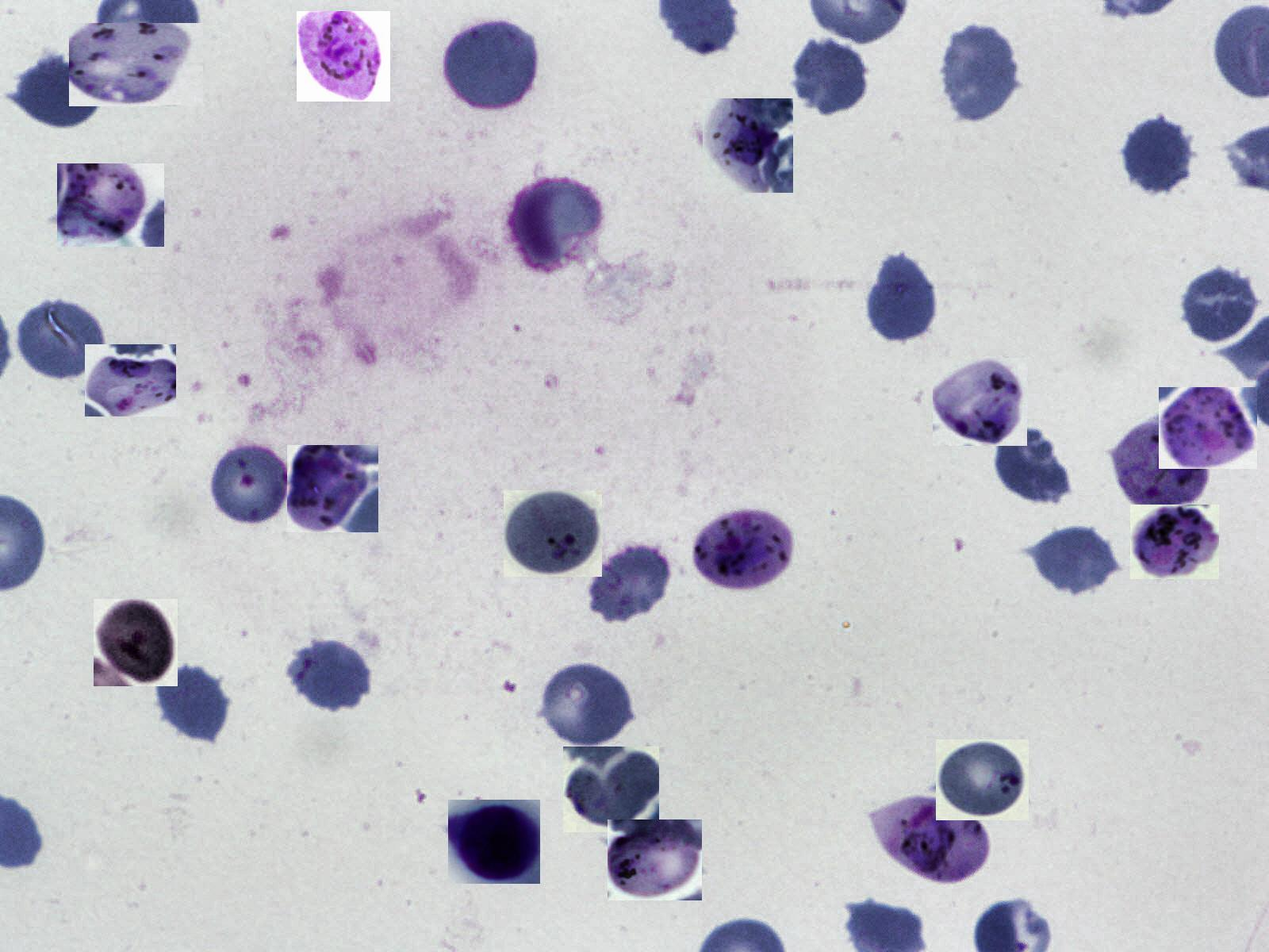Infected: (69, 23, 203, 106), (873, 796, 990, 885), (1113, 421, 1213, 514), (57, 163, 164, 247), (690, 505, 793, 592), (703, 98, 793, 193), (504, 490, 602, 577), (297, 11, 390, 102), (933, 358, 1027, 446), (563, 747, 659, 832), (1159, 387, 1257, 469), (287, 445, 378, 532), (448, 800, 540, 884), (936, 739, 1029, 820), (608, 820, 702, 900), (94, 599, 178, 686), (1130, 505, 1219, 580), (85, 344, 176, 416)
Uninfected: (440, 17, 540, 115), (511, 172, 604, 271), (538, 659, 639, 750), (937, 22, 1022, 125), (15, 297, 108, 383), (207, 439, 293, 530), (585, 539, 674, 624), (865, 248, 940, 346), (13, 52, 102, 132), (1028, 520, 1120, 597), (286, 638, 374, 716), (151, 660, 231, 745), (790, 34, 871, 117), (992, 425, 1074, 505), (1182, 263, 1259, 345), (1120, 116, 1198, 196)
